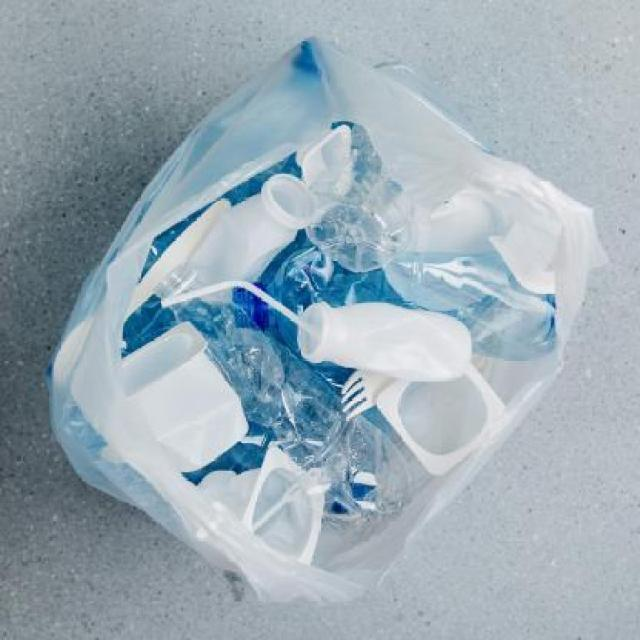plastic bag: (48, 34, 610, 619)
